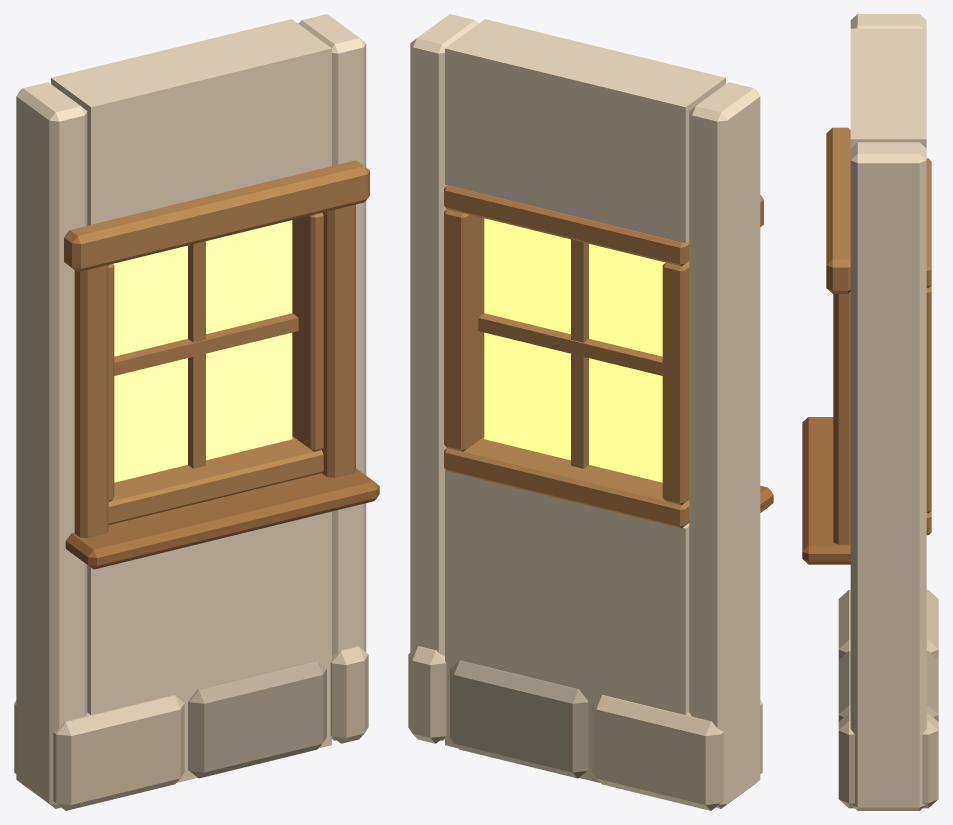
Rendered from wall_window.glb.
3 views of the same model, side by side, from view 1: azimuth 30°, elevation 25°; view 2: azimuth 150°, elevation 25°; view 3: azimuth 270°, elevation 25° (orthographic). The views are drawn at different scales.
Visible parts, largest first — view 1: wall_window; view 2: wall_window; view 3: wall_window.
Boxes of the visible parts, bbox=[...] form: wall_window: bbox=[14, 14, 379, 810]; wall_window: bbox=[408, 14, 773, 810]; wall_window: bbox=[802, 14, 938, 810].
Bounding box in the file's own units: 1 × 2.1 × 0.395.
